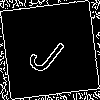J: (25, 25, 74, 77)
